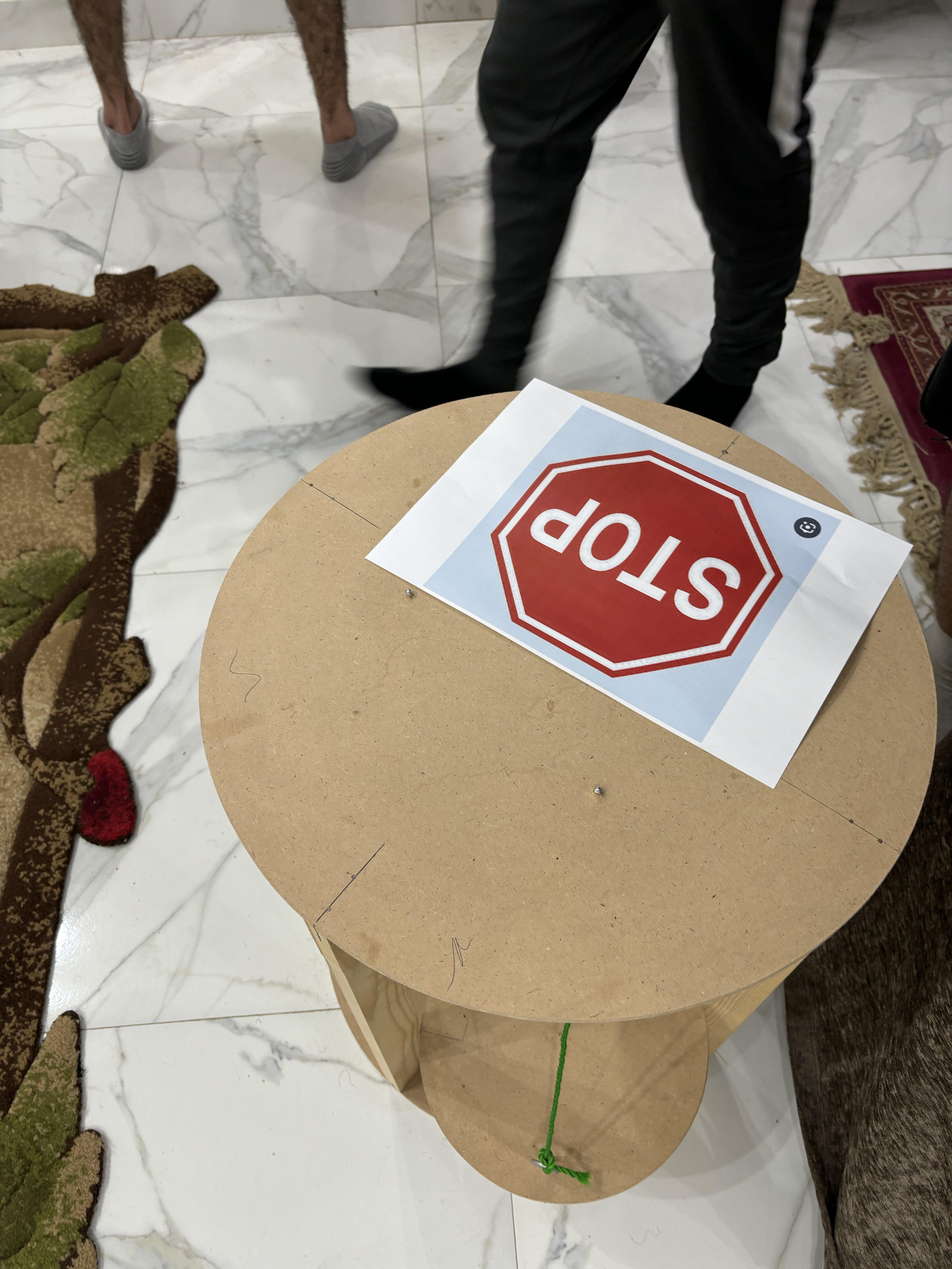Stop: (490, 438, 792, 682)
